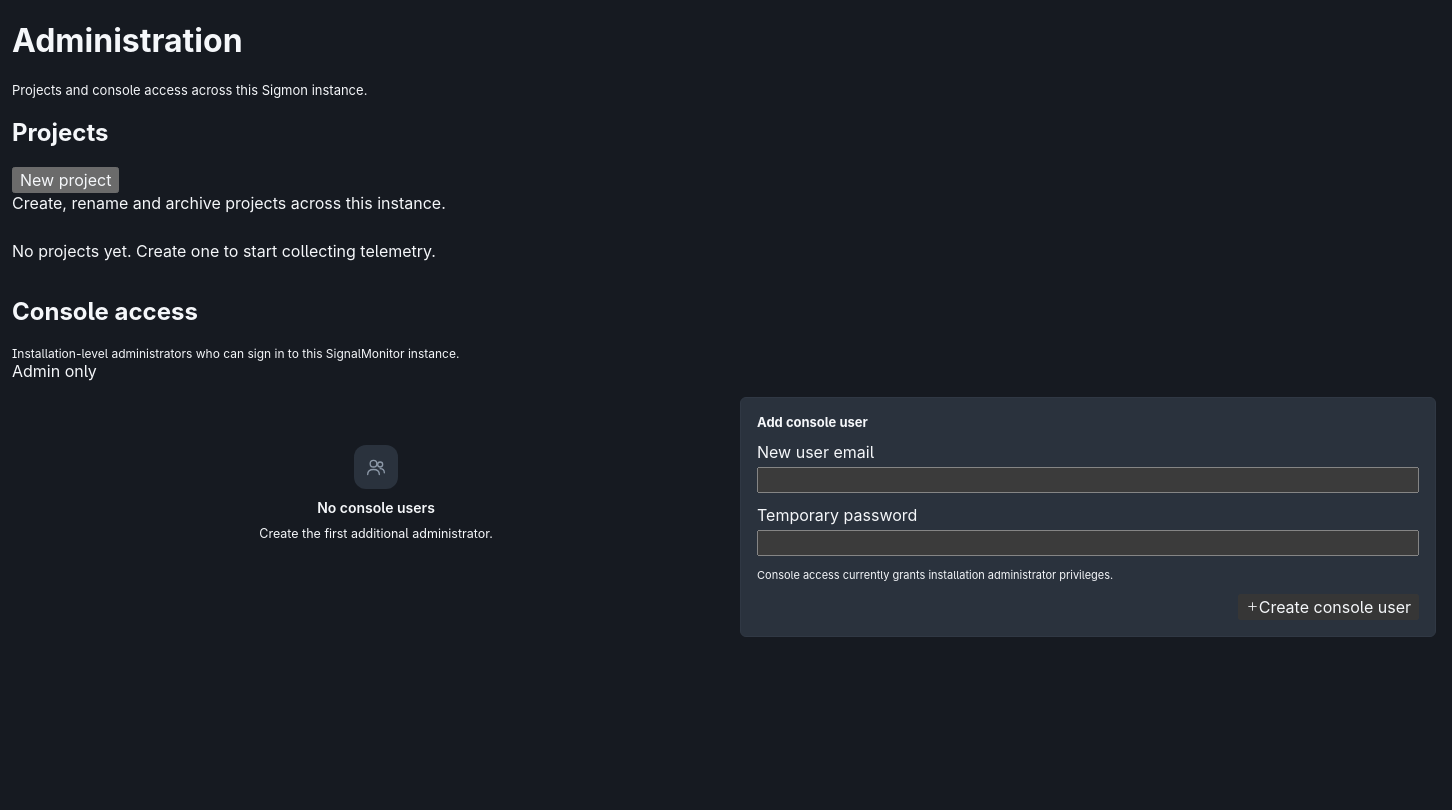
Scenario: SystemScreen › keeps the user editor recoverable when creation fails
Type "duplicate@example.com" into the field labelled "New user email" at (1088, 480), box [757,466,1419,492]
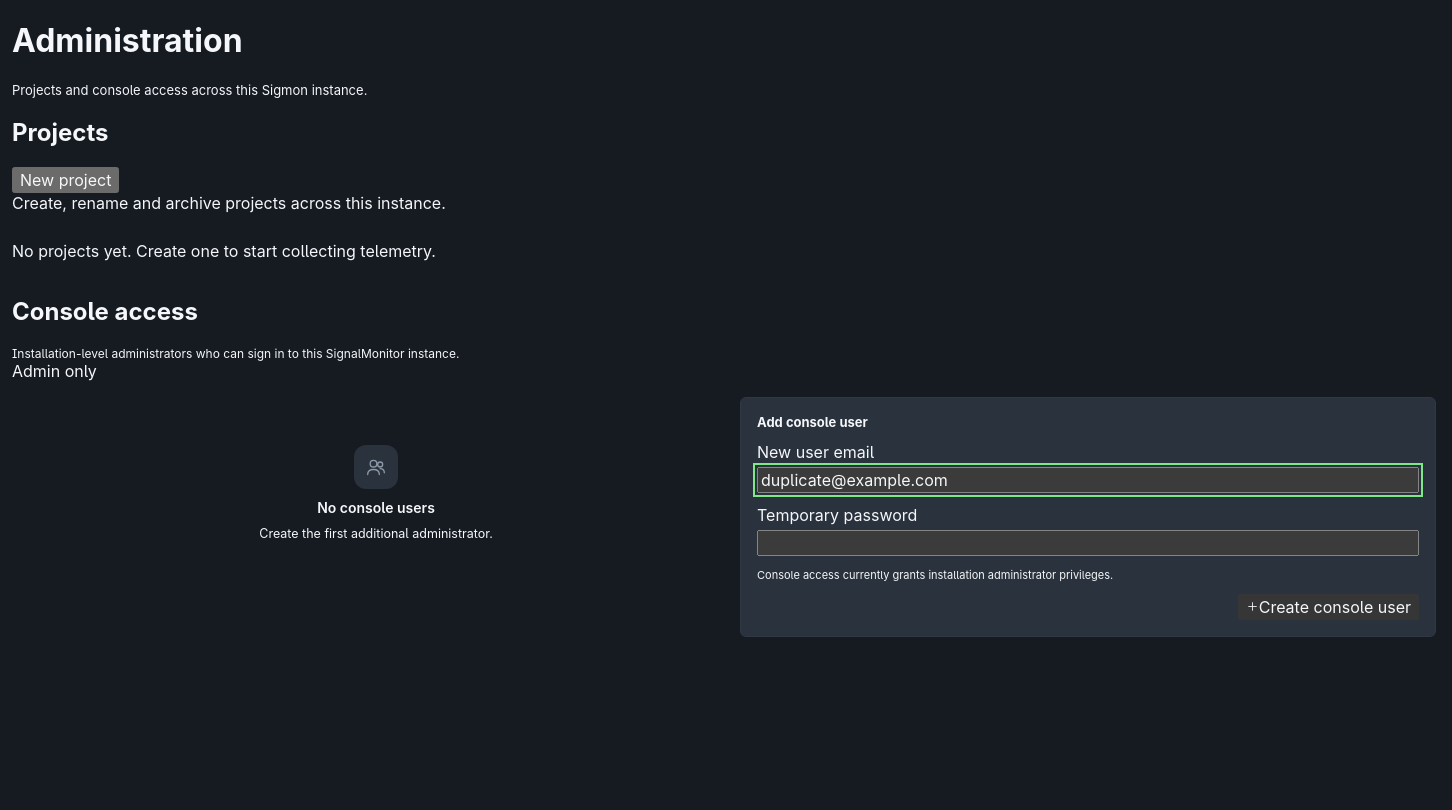
Type "temporary-password" into the password field labelled "Temporary password" at (1088, 542), box [757,530,1419,556]
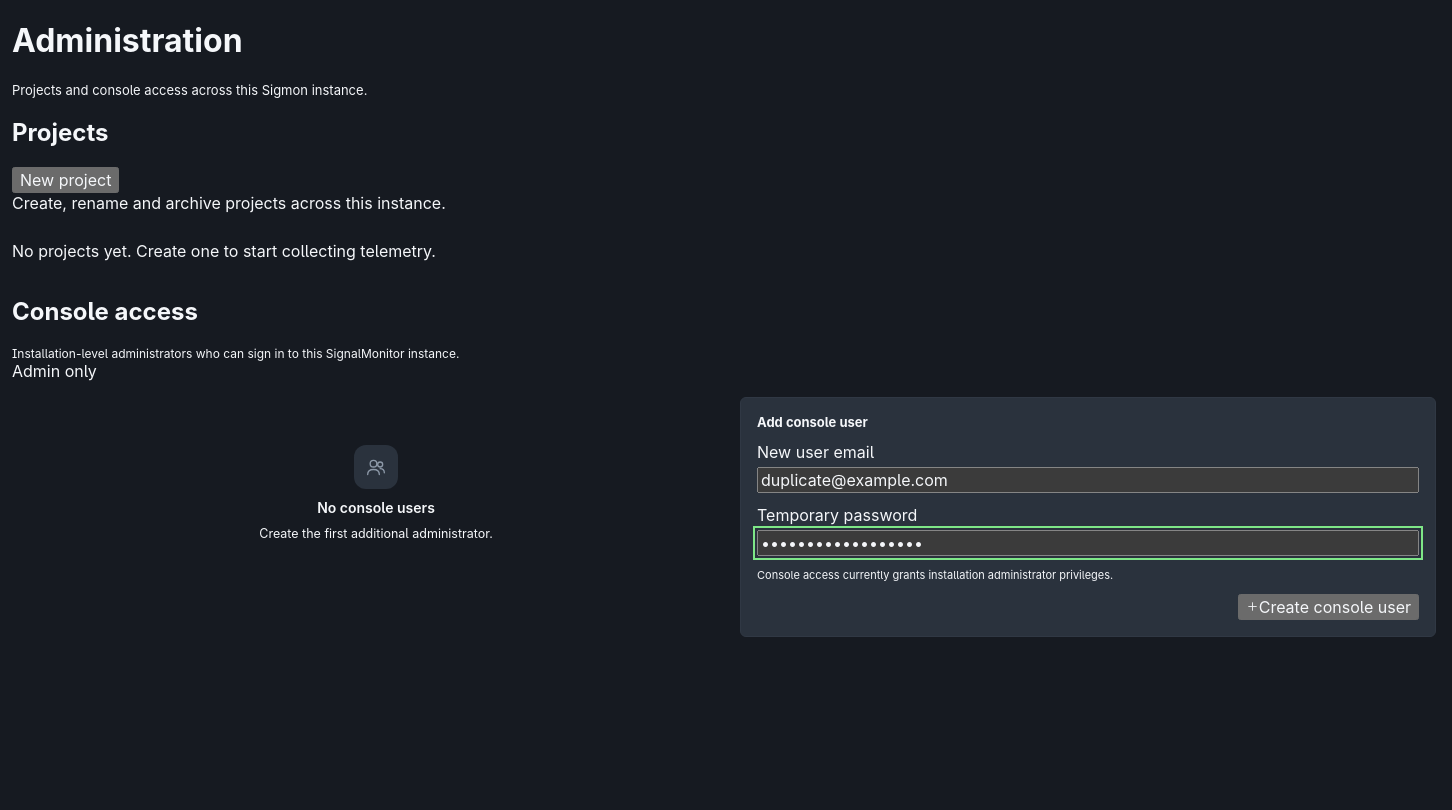
Click the button "Create console user" at (1328, 606), box [1238,594,1419,620]
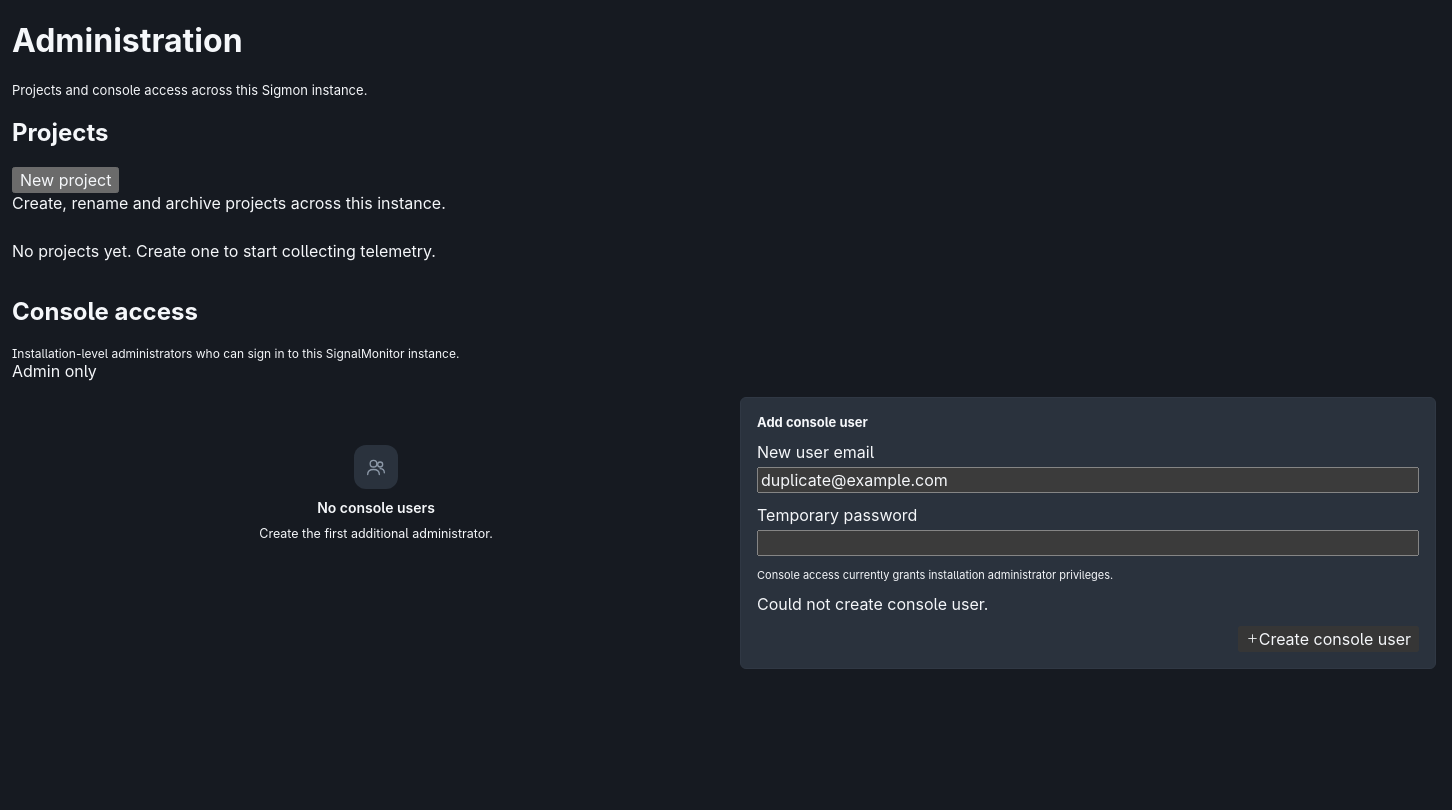
Now the message reads "Could not create console user.", box [757,594,988,614]
Now the password field labelled "Temporary password" is empty, box [757,530,1419,556]
